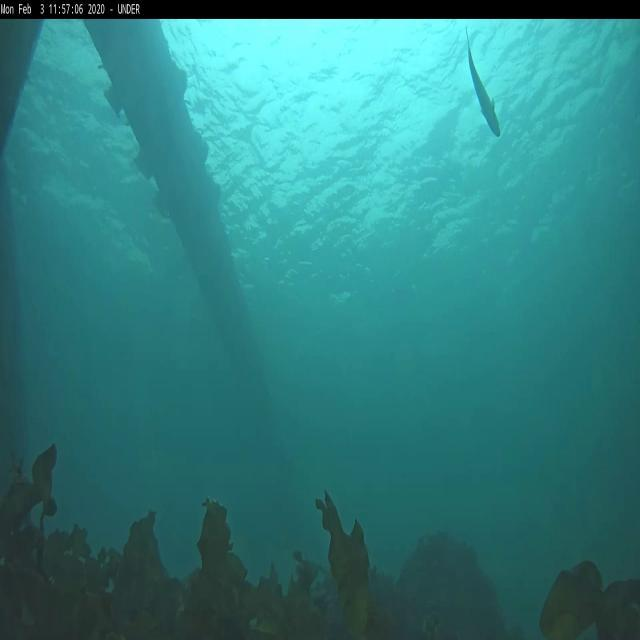fish: (464, 27, 500, 140)
